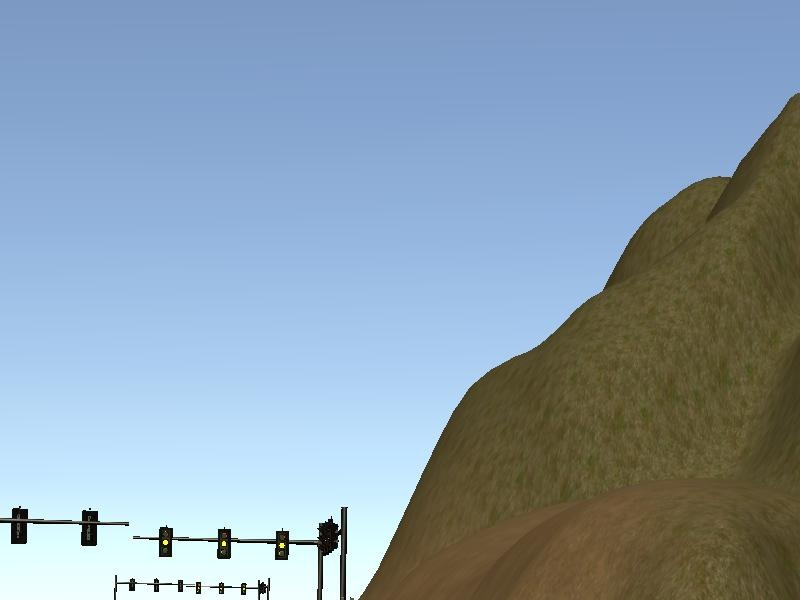yellow: (271, 526, 295, 567), (215, 523, 234, 564), (157, 523, 174, 559)
